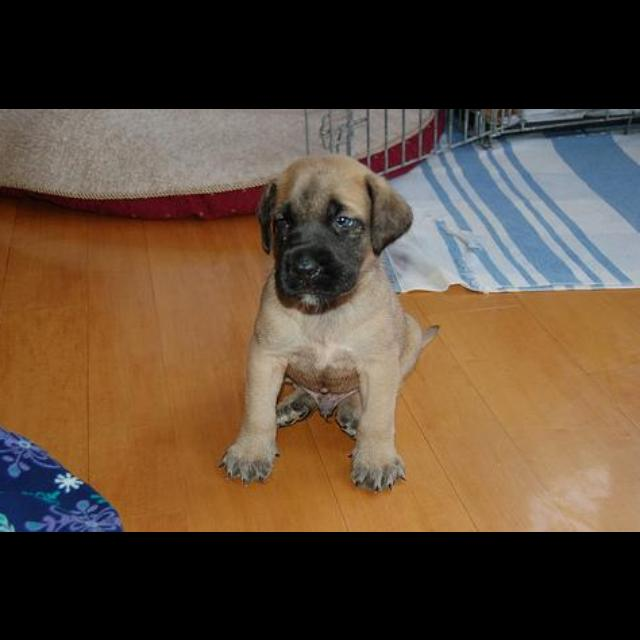bullmastiff: (219, 153, 440, 494)
